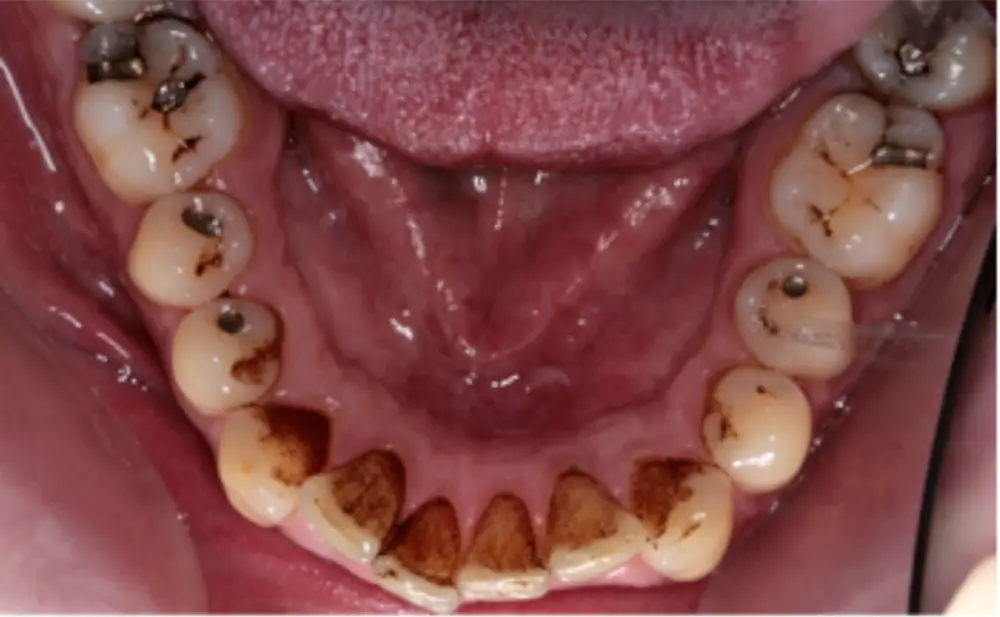LL1BC_decay: (708, 372, 812, 487)
LL1M_decay: (780, 102, 948, 273)
LL2BC_decay: (737, 261, 855, 377)
LL2M_decay: (863, 3, 991, 114)
LLCI_decay: (462, 495, 546, 600)
LLC_decay: (638, 463, 738, 577)
LLLI_decay: (545, 477, 638, 585)
LR1BC_decay: (179, 312, 287, 395)
LR1M_decay: (83, 31, 242, 195)
LR2BC_decay: (135, 192, 256, 306)
LRCI_decay: (397, 497, 459, 609)
LRC_decay: (217, 395, 325, 511)
LRLI_decay: (319, 444, 399, 557)
